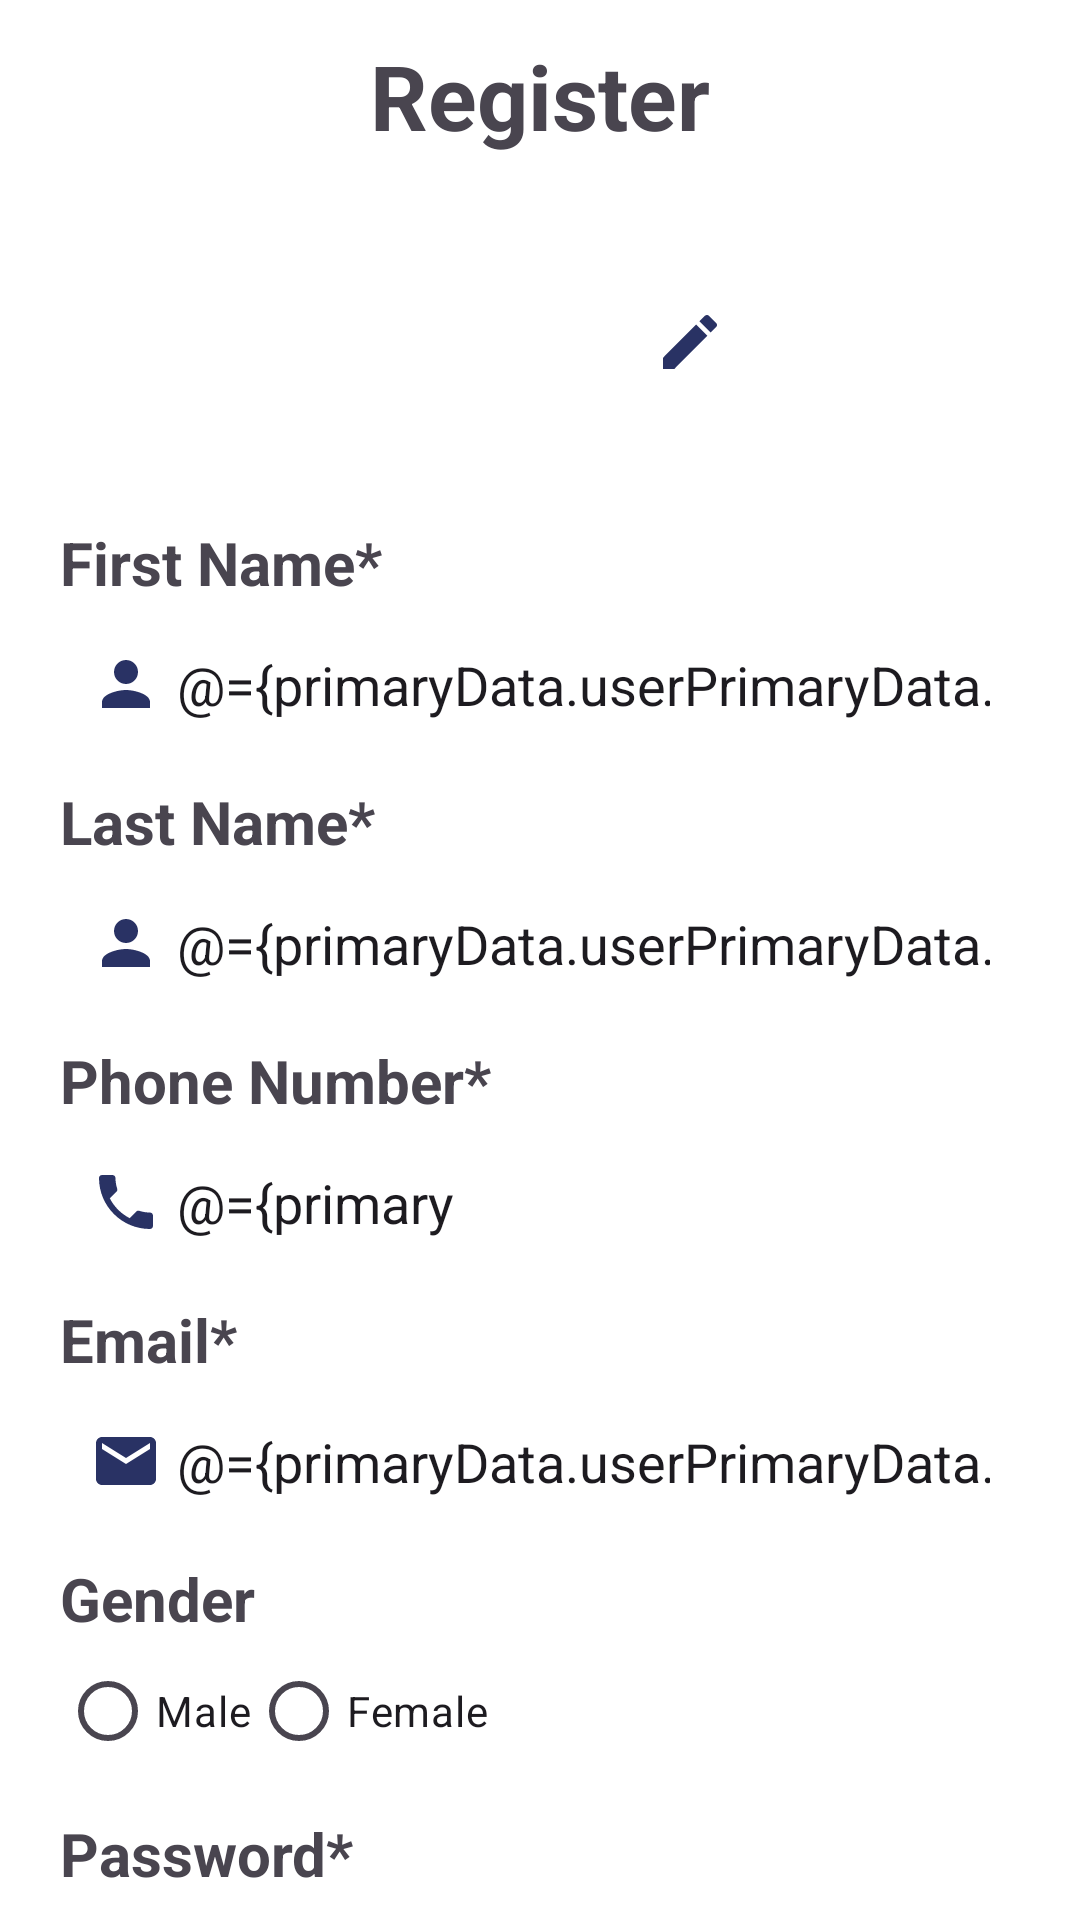

Named icons in this screenshot (1080 x 1920) and their bounding boxes, (x1, y1, x2, y2):
change pick: (663, 315, 717, 369)
